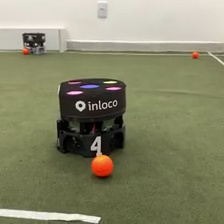ball: (89, 152, 115, 179), (22, 46, 30, 55), (191, 50, 199, 58)
goal: (1, 27, 69, 53)
robot: (54, 74, 129, 159), (20, 30, 48, 56)
